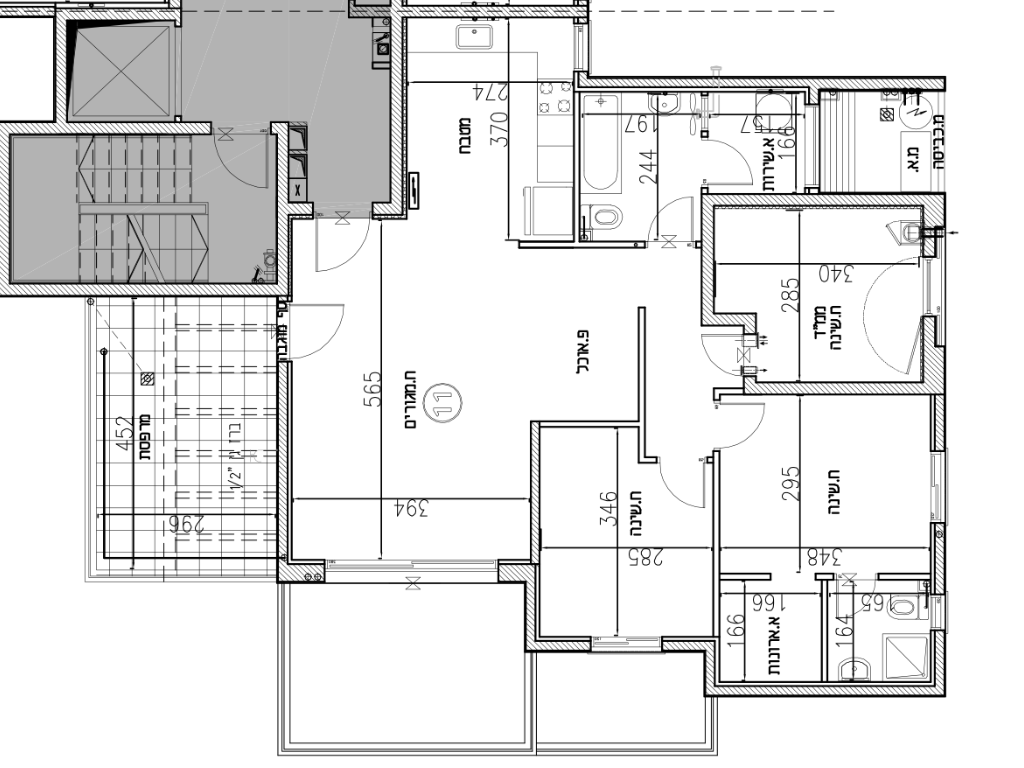door: (208, 143, 274, 197), (299, 296, 355, 357), (651, 472, 708, 521), (726, 397, 774, 452), (713, 130, 757, 190), (313, 228, 366, 276), (650, 191, 694, 236)
wall: (605, 77, 921, 86), (701, 194, 937, 205), (750, 381, 939, 393), (739, 682, 928, 694), (22, 286, 279, 294), (393, 14, 399, 193), (531, 424, 538, 556), (281, 366, 285, 542)
window: (589, 628, 662, 658), (799, 102, 821, 190), (926, 449, 949, 524), (919, 259, 944, 319), (572, 19, 592, 72), (926, 594, 949, 630)
